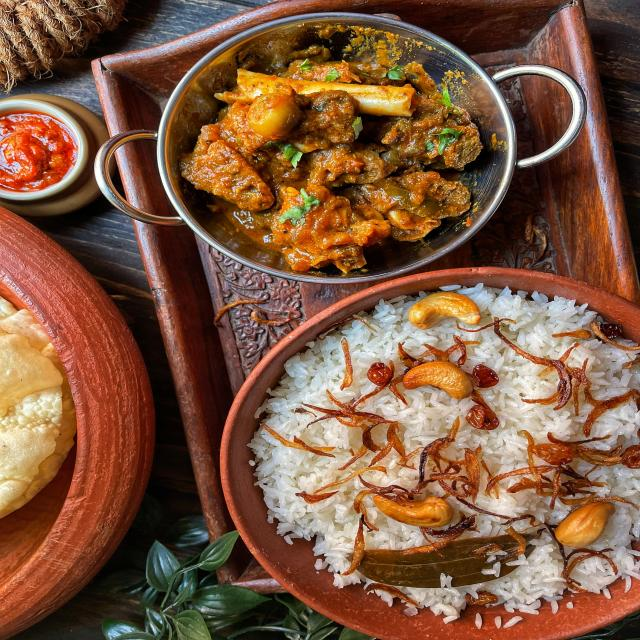Chicken Curry: (174, 14, 499, 266)
Fried Rice: (258, 275, 640, 621)
